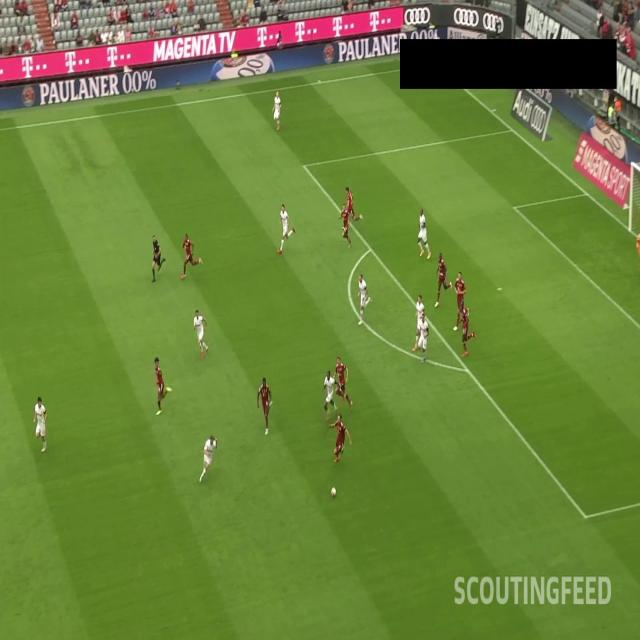ball: (331, 484, 336, 498)
player: (328, 412, 353, 463), (255, 374, 275, 436), (30, 394, 50, 454), (432, 250, 452, 310), (321, 369, 343, 423), (457, 302, 478, 358), (340, 181, 364, 229), (333, 358, 354, 412), (450, 268, 468, 331), (276, 202, 296, 256), (181, 232, 203, 279), (154, 357, 172, 414), (199, 431, 218, 483), (355, 272, 373, 324), (192, 309, 210, 360), (416, 204, 432, 258), (337, 201, 352, 249), (417, 313, 430, 367), (413, 292, 424, 349), (270, 89, 283, 129)
referee: (149, 230, 169, 284)
